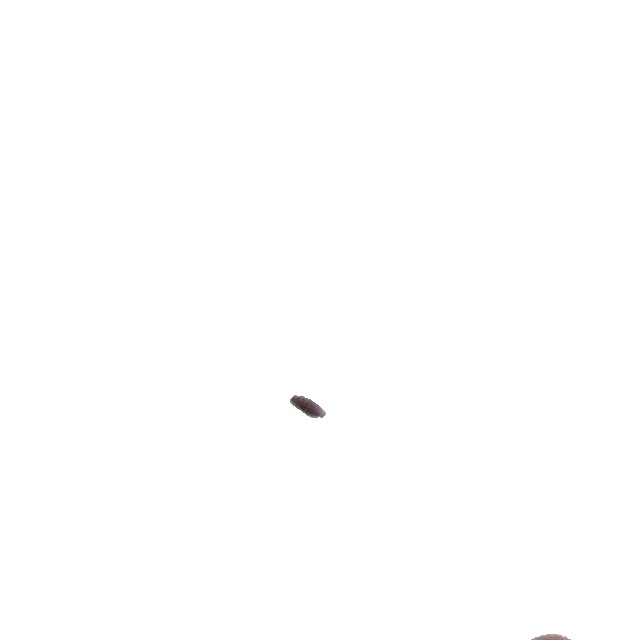dill: (289, 394, 327, 419)
mais: (509, 633, 596, 640)
